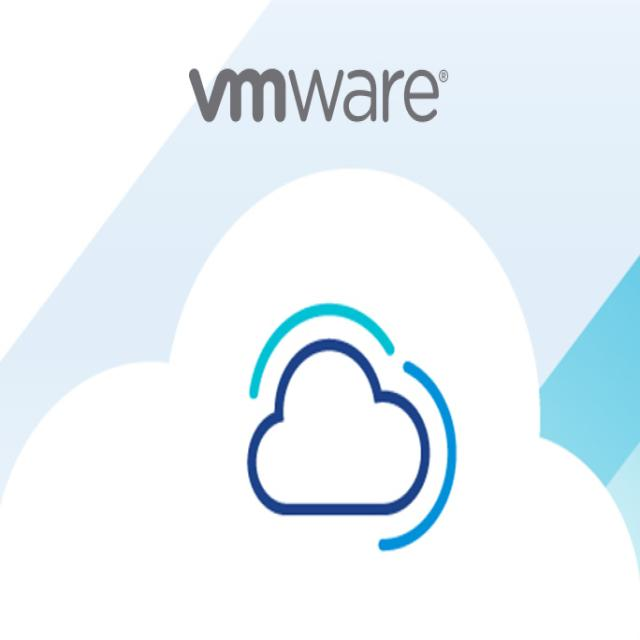vmware: (187, 68, 286, 122)
